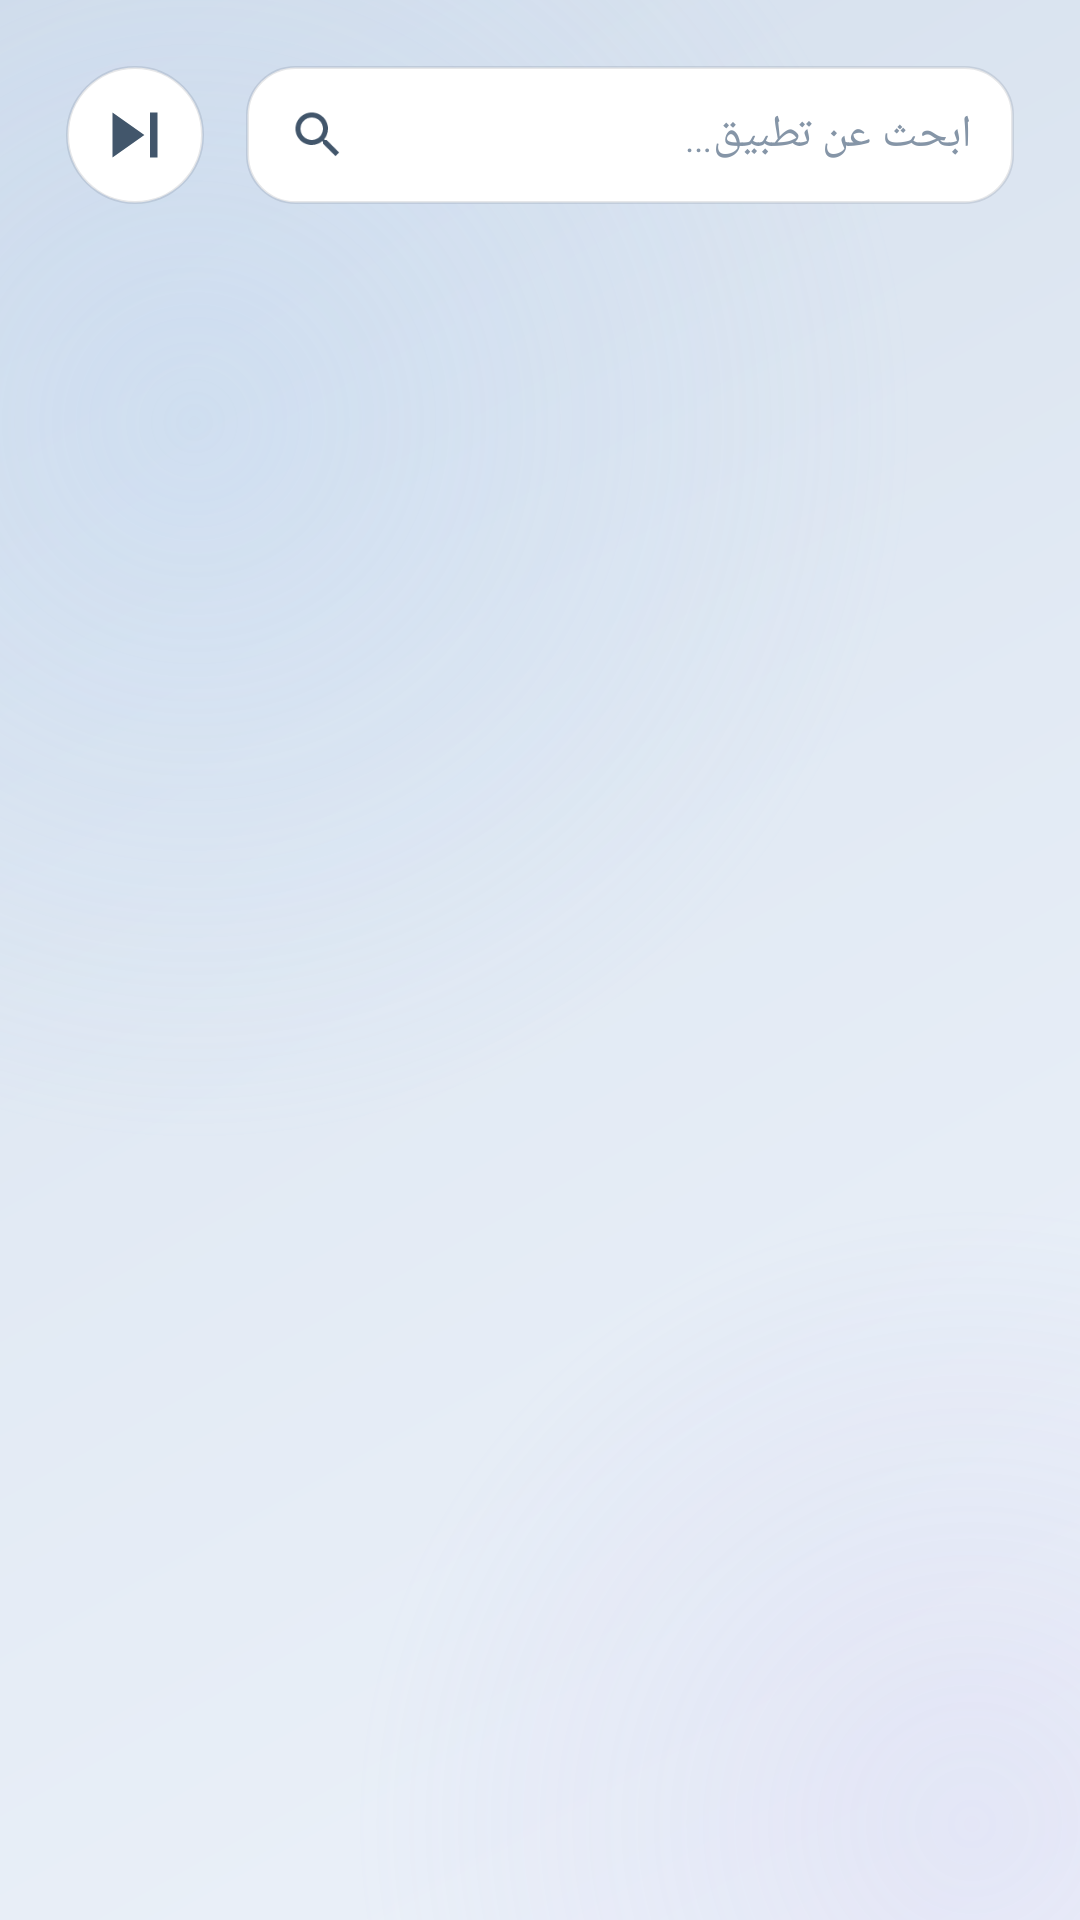

Icons on this 1080w x 1920h Android screen, each with the point to tap as [x,y]:
search: [317,134]
